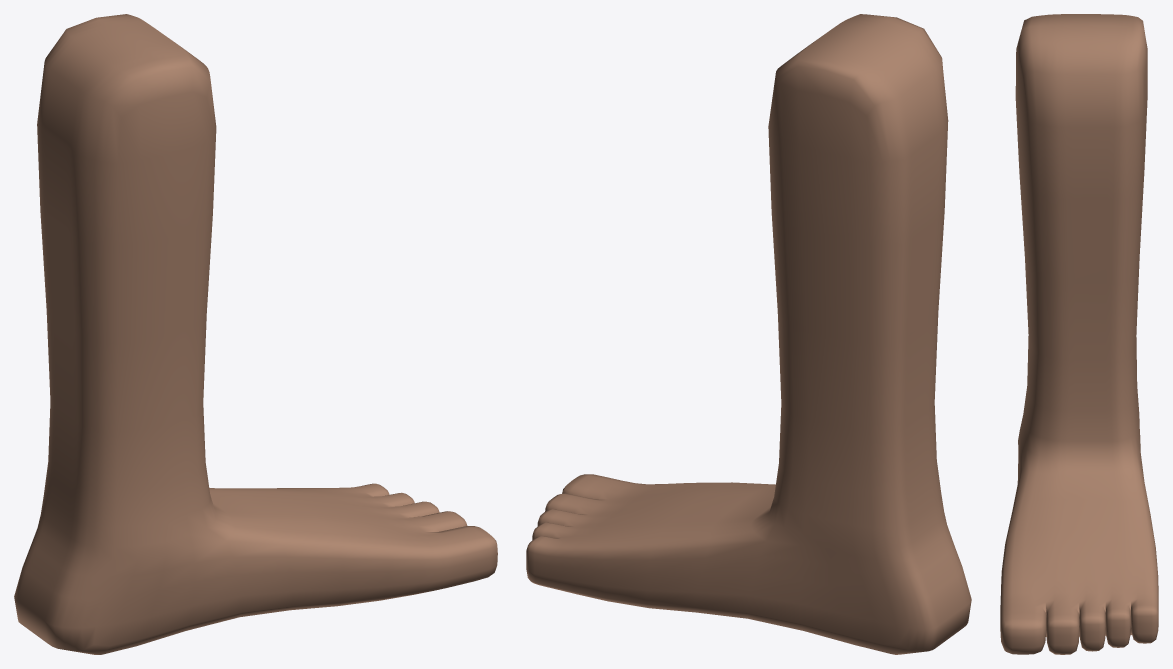
Rendered from foot.glb.
3 views of the same model, side by side, from view 1: azimuth 30°, elevation 25°; view 2: azimuth 150°, elevation 25°; view 3: azimuth 270°, elevation 25° (orthographic). The views are drawn at different scales.
Visible parts, largest first — view 1: foot.001; view 2: foot.001; view 3: foot.001.
Part boxes in pixels (x1=…): foot.001: x1=14, y1=14, x2=497, y2=654; foot.001: x1=526, y1=14, x2=971, y2=654; foot.001: x1=1000, y1=14, x2=1158, y2=654.
Bounding box in the file's own units: 0.801 × 1.06 × 0.3056.
